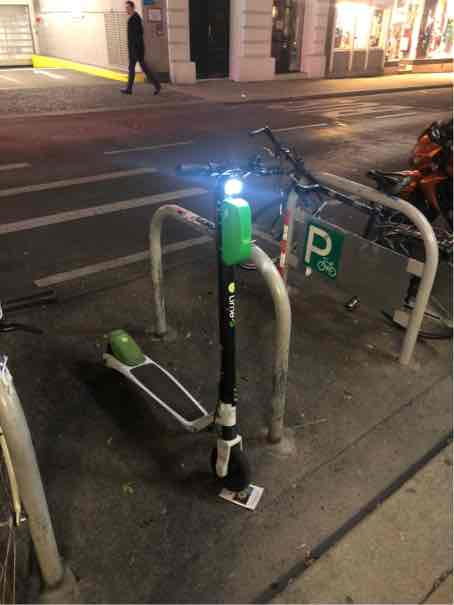scooter: (81, 122, 290, 498)
